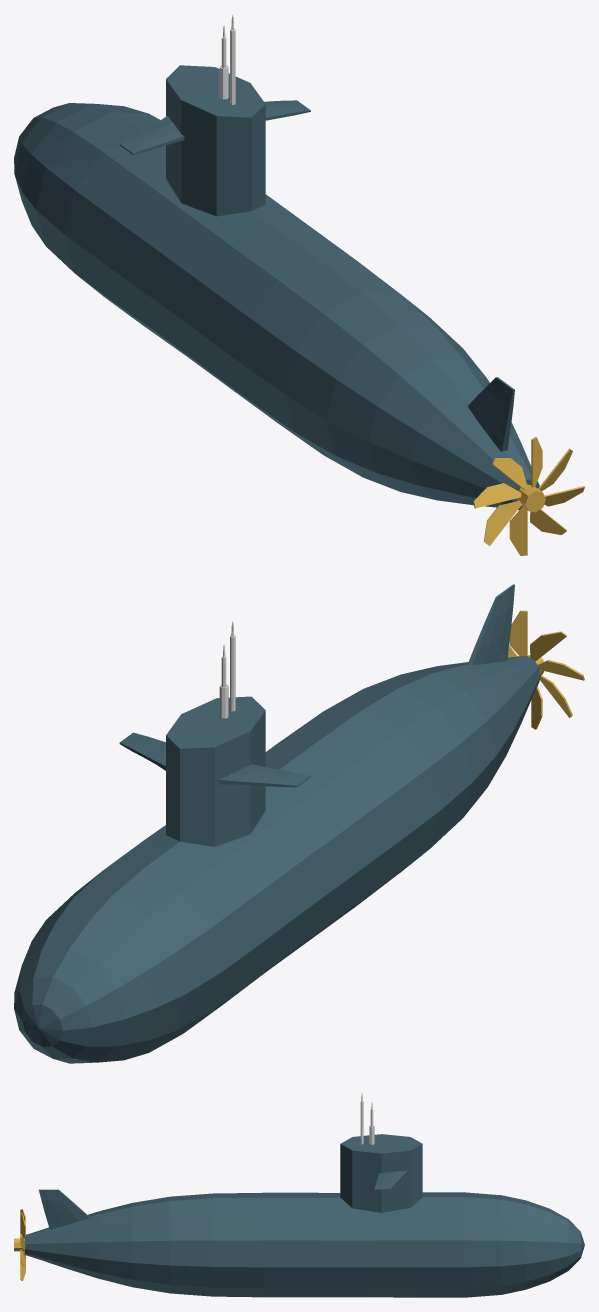
The model's file is submarine.glb.
3 renders of one model, top to bottom at view 1: azimuth 30°, elevation 25°; view 2: azimuth 150°, elevation 25°; view 3: azimuth 270°, elevation 25°, orthographic. The views are drawn at different scales.
Visible parts, largest first — view 1: hull, screw, fins, depth_planes; view 2: hull, screw, depth_planes, fins; view 3: hull, fins, screw, depth_planes.
Part boxes in pixels (box(x1,y1,x2,y2)): hull: box(14, 65, 539, 510); screw: box(473, 437, 584, 555); fins: box(468, 377, 514, 451); depth_planes: box(119, 100, 310, 154); hull: box(14, 656, 540, 1063); screw: box(508, 610, 584, 729); depth_planes: box(119, 732, 310, 787); fins: box(468, 584, 514, 665); hull: box(24, 1134, 584, 1297); fins: box(39, 1189, 89, 1229); screw: box(14, 1209, 25, 1280); depth_planes: box(374, 1170, 407, 1190).
Bounding box in the file's own units: 2.28 × 4.28 × 11.03.
